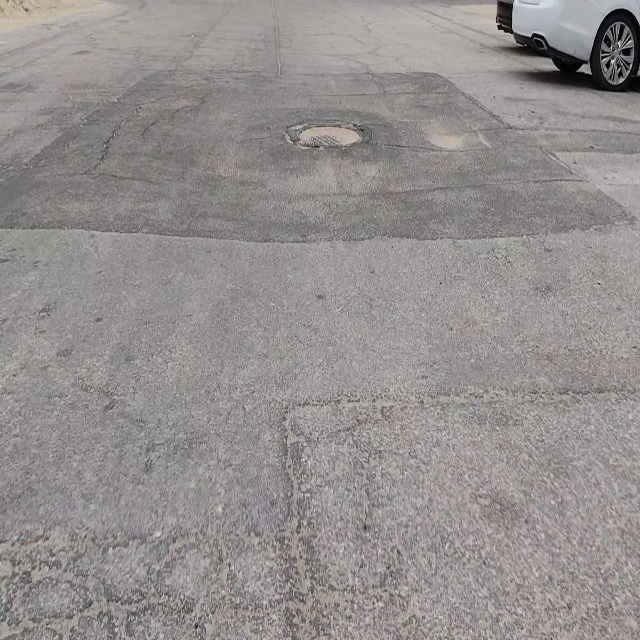pothole: (293, 123, 364, 147)
